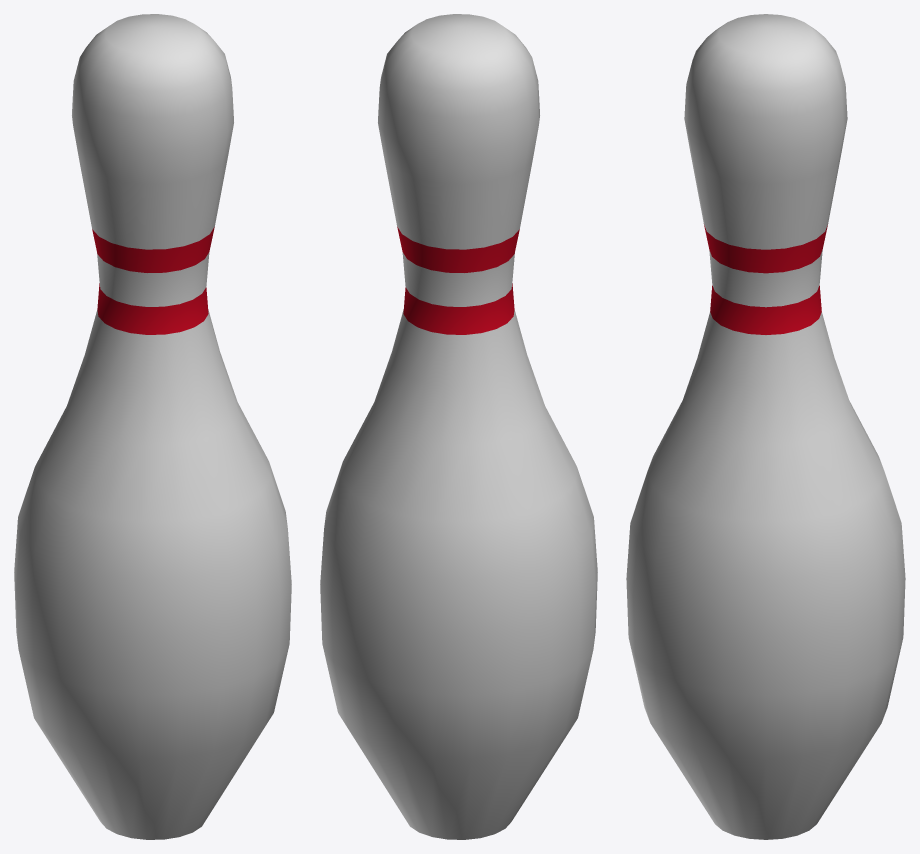
Rendered from Kegle.fbx.
The picture shows the model from 3 angles, left to right: view 1: azimuth 30°, elevation 25°; view 2: azimuth 150°, elevation 25°; view 3: azimuth 270°, elevation 25°; orthographic projection.
Visible parts, largest first — view 1: pSphere1; view 2: pSphere1; view 3: pSphere1.
Boxes of the visible parts, box(x1,y1,x2,y2) form: pSphere1: box(14, 14, 291, 839); pSphere1: box(320, 14, 597, 839); pSphere1: box(626, 14, 905, 839).
Size of the model in its own units: 1.9 by 5.94 by 1.9.
